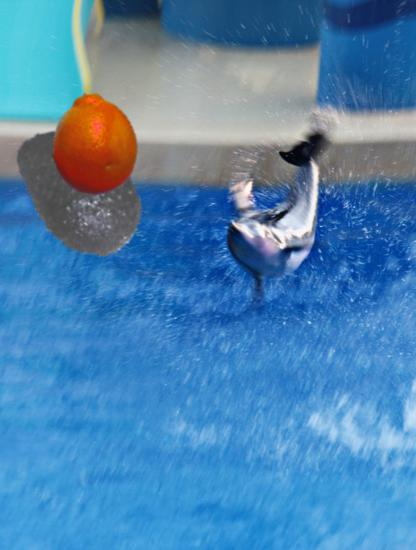Avocado: (6, 114, 153, 261)
Tangelo: (42, 92, 146, 196)
